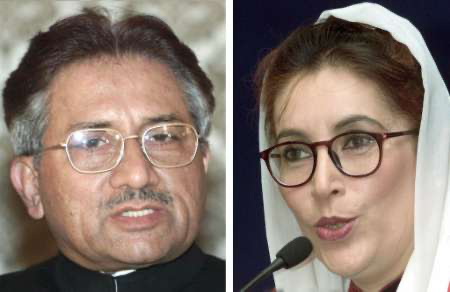Face: (33, 98, 208, 271), (258, 93, 419, 280)
